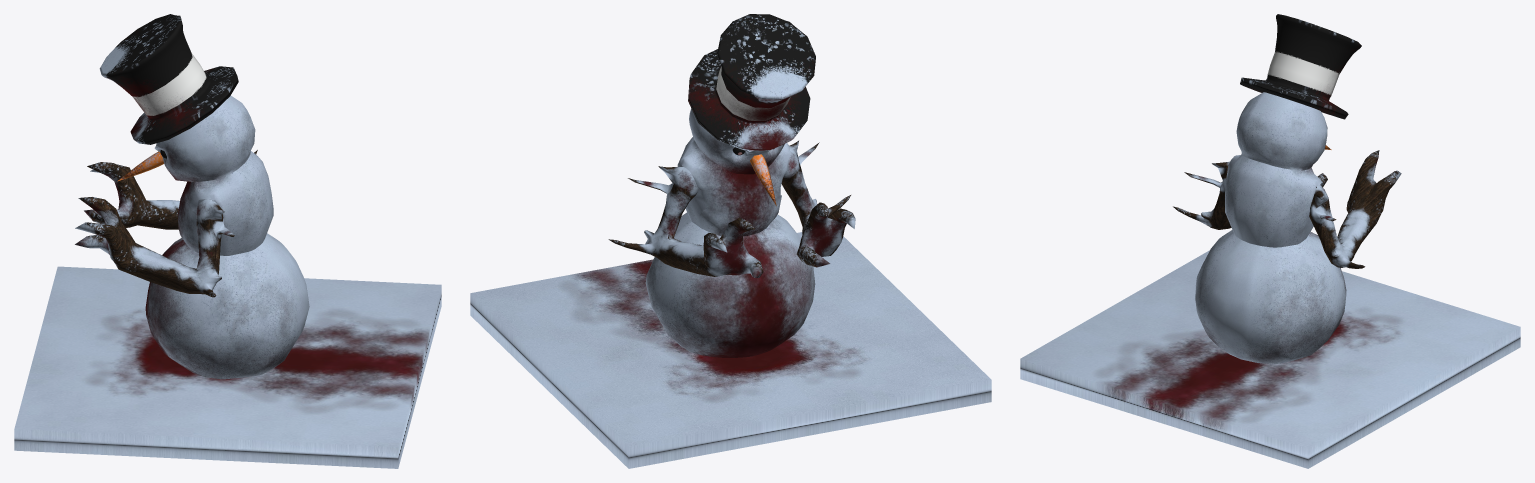
The model's file is dmuñecodenievemontaña_lev5.glb.
3 views of the same model, side by side, from view 1: azimuth 30°, elevation 25°; view 2: azimuth 150°, elevation 25°; view 3: azimuth 270°, elevation 25° (orthographic). The views are drawn at different scales.
Parts seen in each view (by area): view 1: Pavimento1_Pavimento1_0.001, SnowMan1_SnowMan1_0.001, Cappello1_Cappello1_0.001, Braccia_e__Mani1_Braccia_e__Mani1_0.001, Carota1_Carota1_0.001; view 2: Pavimento1_Pavimento1_0.001, SnowMan1_SnowMan1_0.001, Cappello1_Cappello1_0.001, Braccia_e__Mani1_Braccia_e__Mani1_0.001, Carota1_Carota1_0.001; view 3: Pavimento1_Pavimento1_0.001, SnowMan1_SnowMan1_0.001, Cappello1_Cappello1_0.001, Braccia_e__Mani1_Braccia_e__Mani1_0.001.
Boxes of the visible parts, x1=… form: Pavimento1_Pavimento1_0.001: x1=14, y1=266, x2=441, y2=468; SnowMan1_SnowMan1_0.001: x1=145, y1=95, x2=309, y2=379; Cappello1_Cappello1_0.001: x1=99, y1=14, x2=238, y2=144; Braccia_e__Mani1_Braccia_e__Mani1_0.001: x1=75, y1=150, x2=257, y2=297; Carota1_Carota1_0.001: x1=117, y1=151, x2=163, y2=181; Pavimento1_Pavimento1_0.001: x1=470, y1=232, x2=991, y2=468; SnowMan1_SnowMan1_0.001: x1=645, y1=108, x2=815, y2=357; Cappello1_Cappello1_0.001: x1=688, y1=14, x2=815, y2=150; Braccia_e__Mani1_Braccia_e__Mani1_0.001: x1=608, y1=140, x2=855, y2=278; Carota1_Carota1_0.001: x1=750, y1=154, x2=776, y2=205; Pavimento1_Pavimento1_0.001: x1=1020, y1=250, x2=1520, y2=468; SnowMan1_SnowMan1_0.001: x1=1195, y1=92, x2=1346, y2=363; Cappello1_Cappello1_0.001: x1=1240, y1=14, x2=1361, y2=119; Braccia_e__Mani1_Braccia_e__Mani1_0.001: x1=1173, y1=150, x2=1401, y2=268.
Bounding box in the file's own units: 69.09 × 50.07 × 69.09.
Materials: 6 (6 with a texture image).
